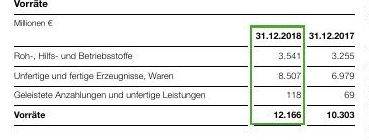table: (0, 0, 369, 140)
